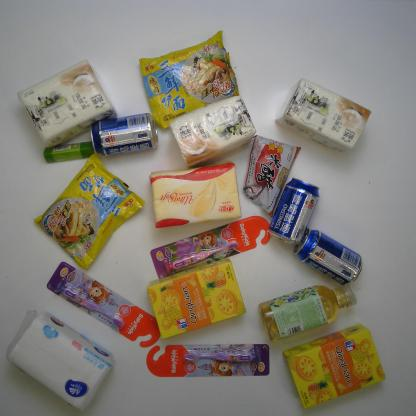Alcohol: (289, 226, 364, 289), (263, 174, 320, 251), (89, 108, 158, 160)
Dessert: (281, 322, 388, 412), (145, 257, 248, 343)
Drink: (257, 280, 359, 345)
Instant Noodles: (30, 151, 147, 271), (136, 28, 245, 136)
Personal Hygiene: (45, 259, 162, 348), (150, 215, 274, 282), (143, 341, 271, 380)
Seasoner: (244, 130, 304, 221)
Stationery: (42, 138, 96, 164)
Tissue: (8, 308, 116, 413), (14, 57, 117, 152), (274, 78, 374, 154), (168, 90, 257, 175), (148, 162, 244, 230)
